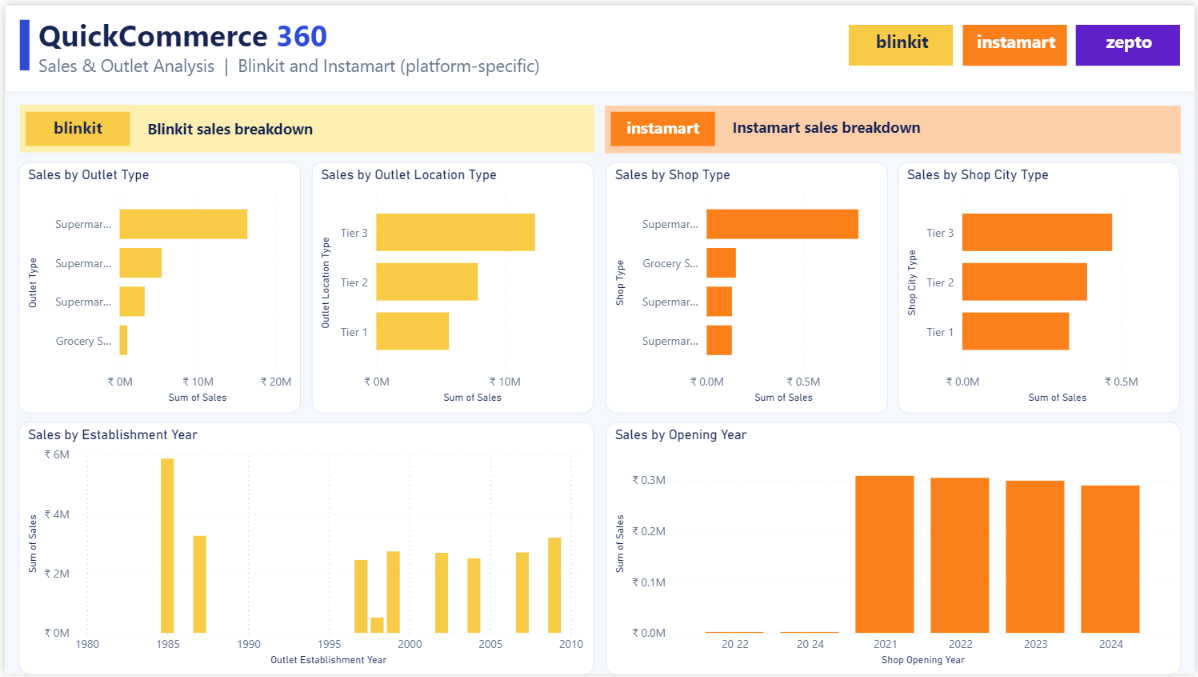

What the dashboard file says about the page in this screenshot:
{"tool":"powerbi","page":{"name":"Sales & Outlet Analysis","canvas":[1280,720],"ordinal":2},"visuals":[{"type":"textbox","box":[0,0,1280,94.3],"z":1000},{"type":"textbox","box":[16,16,6,54],"z":2000},{"type":"textbox","box":[31.4,5.7,640,88.6],"z":3000},{"type":"textbox","box":[908,21,112,44],"z":4000},{"type":"textbox","box":[1030,21,112,44],"z":5000},{"type":"textbox","box":[1152,21,112,44],"z":6000},{"type":"textbox","box":[16.2,107.5,617.5,51.2],"z":7000},{"type":"textbox","box":[22.3,114.6,112.3,36.9],"z":8000},{"type":"textbox","box":[148.5,116.9,467.7,34.6],"z":9000},{"type":"clusteredBarChart","title":"Sales by Outlet Type","fields":{"Category":["Blinkit.Outlet Type"],"Y":["Sum(Blinkit.Sales)"]},"box":[15,169.3,303.6,270],"z":10000},{"type":"clusteredBarChart","title":"Sales by Outlet Location Type","fields":{"Category":["Blinkit.Outlet Location Type"],"Y":["Sum(Blinkit.Sales)"]},"box":[330,169.3,303.6,270],"z":11000},{"type":"clusteredColumnChart","title":"Sales by Establishment Year","fields":{"Category":["Blinkit.Outlet Establishment Year"],"Y":["Sum(Blinkit.Sales)"]},"box":[15,447.9,618.6,272.1],"z":12000},{"type":"textbox","box":[645.4,108.5,619.2,51.5],"z":13000},{"type":"textbox","box":[651.5,115.4,112.3,36.9],"z":14000},{"type":"textbox","box":[776.9,115.4,467.7,34.6],"z":15000},{"type":"clusteredBarChart","title":"Sales by Shop Type","fields":{"Category":["Instamart.Shop Type"],"Y":["Sum(Instamart.Sales)"]},"box":[645.7,169.3,303.6,270],"z":16000},{"type":"clusteredBarChart","title":"Sales by Shop City Type","fields":{"Category":["Instamart.Shop City Type"],"Y":["Sum(Instamart.Sales)"]},"box":[960,169.3,303.6,270],"z":17000},{"type":"clusteredColumnChart","title":"Sales by Opening Year","fields":{"Category":["Instamart.Shop Opening Year"],"Y":["Sum(Instamart.Sales)"]},"box":[645.7,447.9,618.6,272.1],"z":18000}]}

Visuals, with their boxes in screenshot pixels (x1, y1, x2, y2), scaled from the page's 1280x720 canvas onto the 1198x677 screenshot:
textbox: [0,0,1197,89]
textbox: [15,15,21,66]
textbox: [29,5,628,89]
textbox: [850,20,955,61]
textbox: [964,20,1069,61]
textbox: [1078,20,1183,61]
textbox: [15,101,593,149]
textbox: [21,108,126,142]
textbox: [139,110,577,142]
"Sales by Outlet Type" clusteredBarChart: [14,159,298,413]
"Sales by Outlet Location Type" clusteredBarChart: [309,159,593,413]
"Sales by Establishment Year" clusteredColumnChart: [14,421,593,676]
textbox: [604,102,1184,150]
textbox: [610,109,715,143]
textbox: [727,109,1165,141]
"Sales by Shop Type" clusteredBarChart: [604,159,888,413]
"Sales by Shop City Type" clusteredBarChart: [898,159,1183,413]
"Sales by Opening Year" clusteredColumnChart: [604,421,1183,676]
